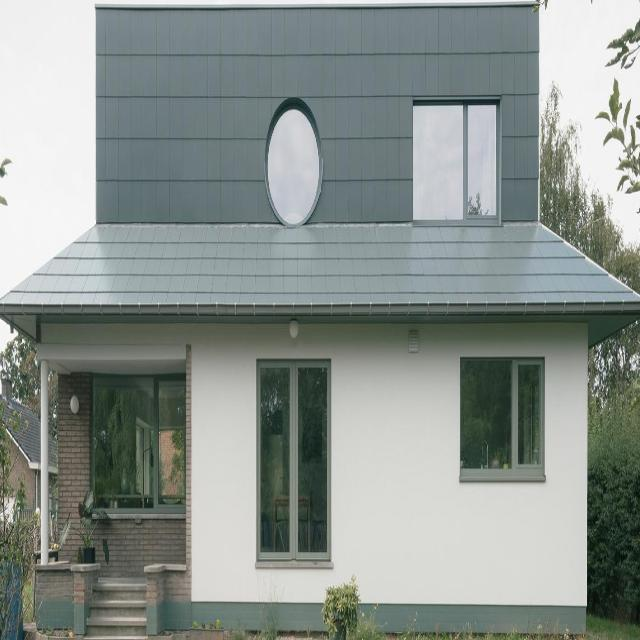window: (257, 356, 332, 563), (92, 373, 187, 511), (410, 99, 501, 226), (461, 355, 547, 480), (268, 102, 320, 212)
